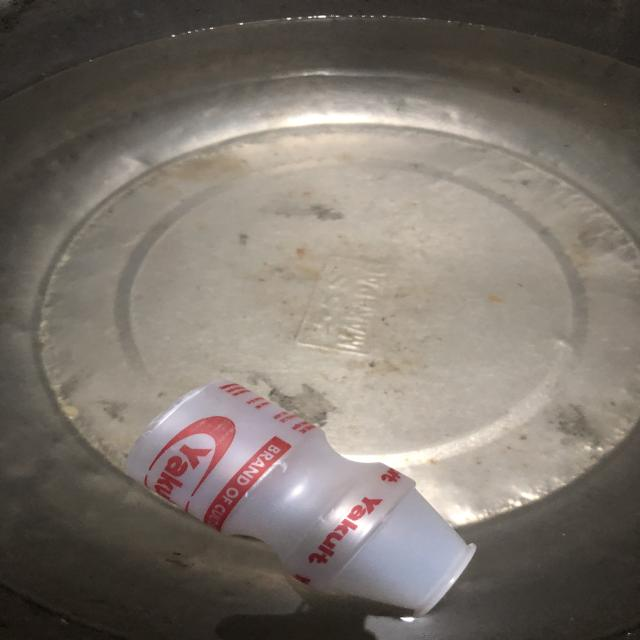Plastic Bottle: (121, 378, 485, 622)
